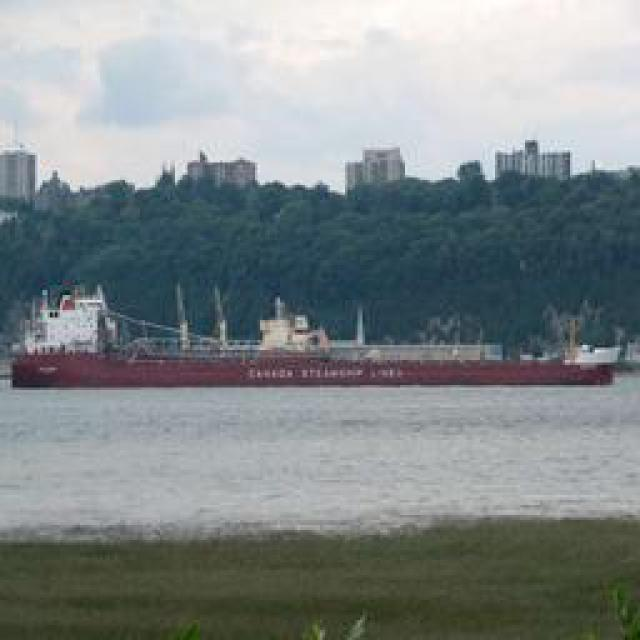Ship: (19, 325, 632, 390)
